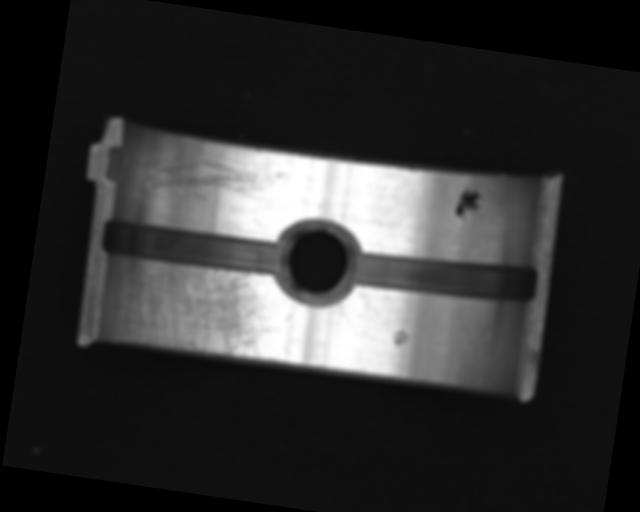blot: (453, 184, 485, 223)
bruise: (390, 328, 412, 350)
gap: (346, 244, 541, 310), (98, 214, 288, 281)
hole: (269, 213, 365, 307)
nick: (150, 150, 289, 214), (332, 301, 364, 337)
scratch: (103, 251, 300, 368)
